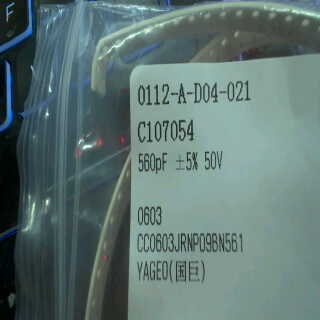560pF: (135, 147, 167, 175)
